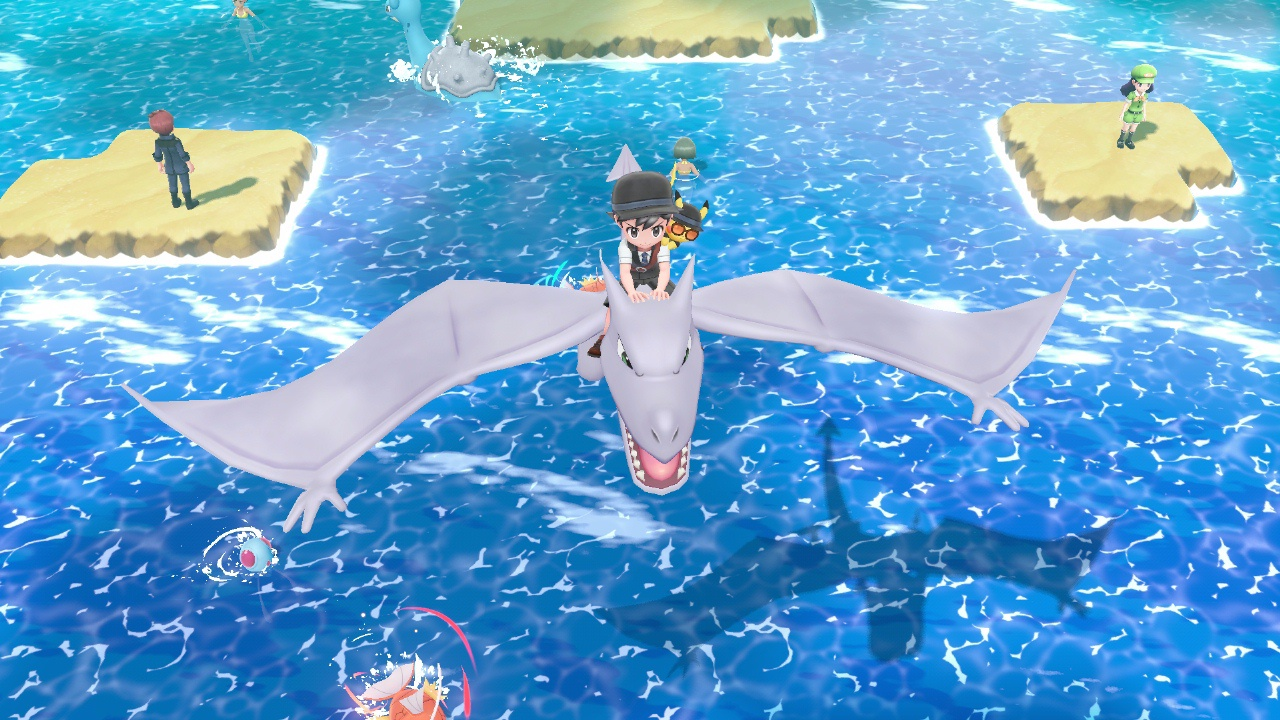Red: (357, 662, 461, 720)
